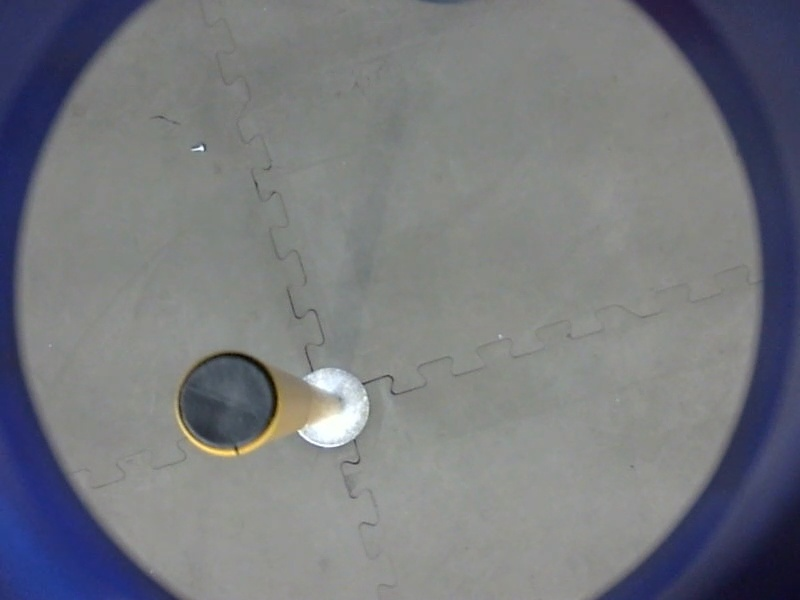tip: (172, 347, 286, 462)
